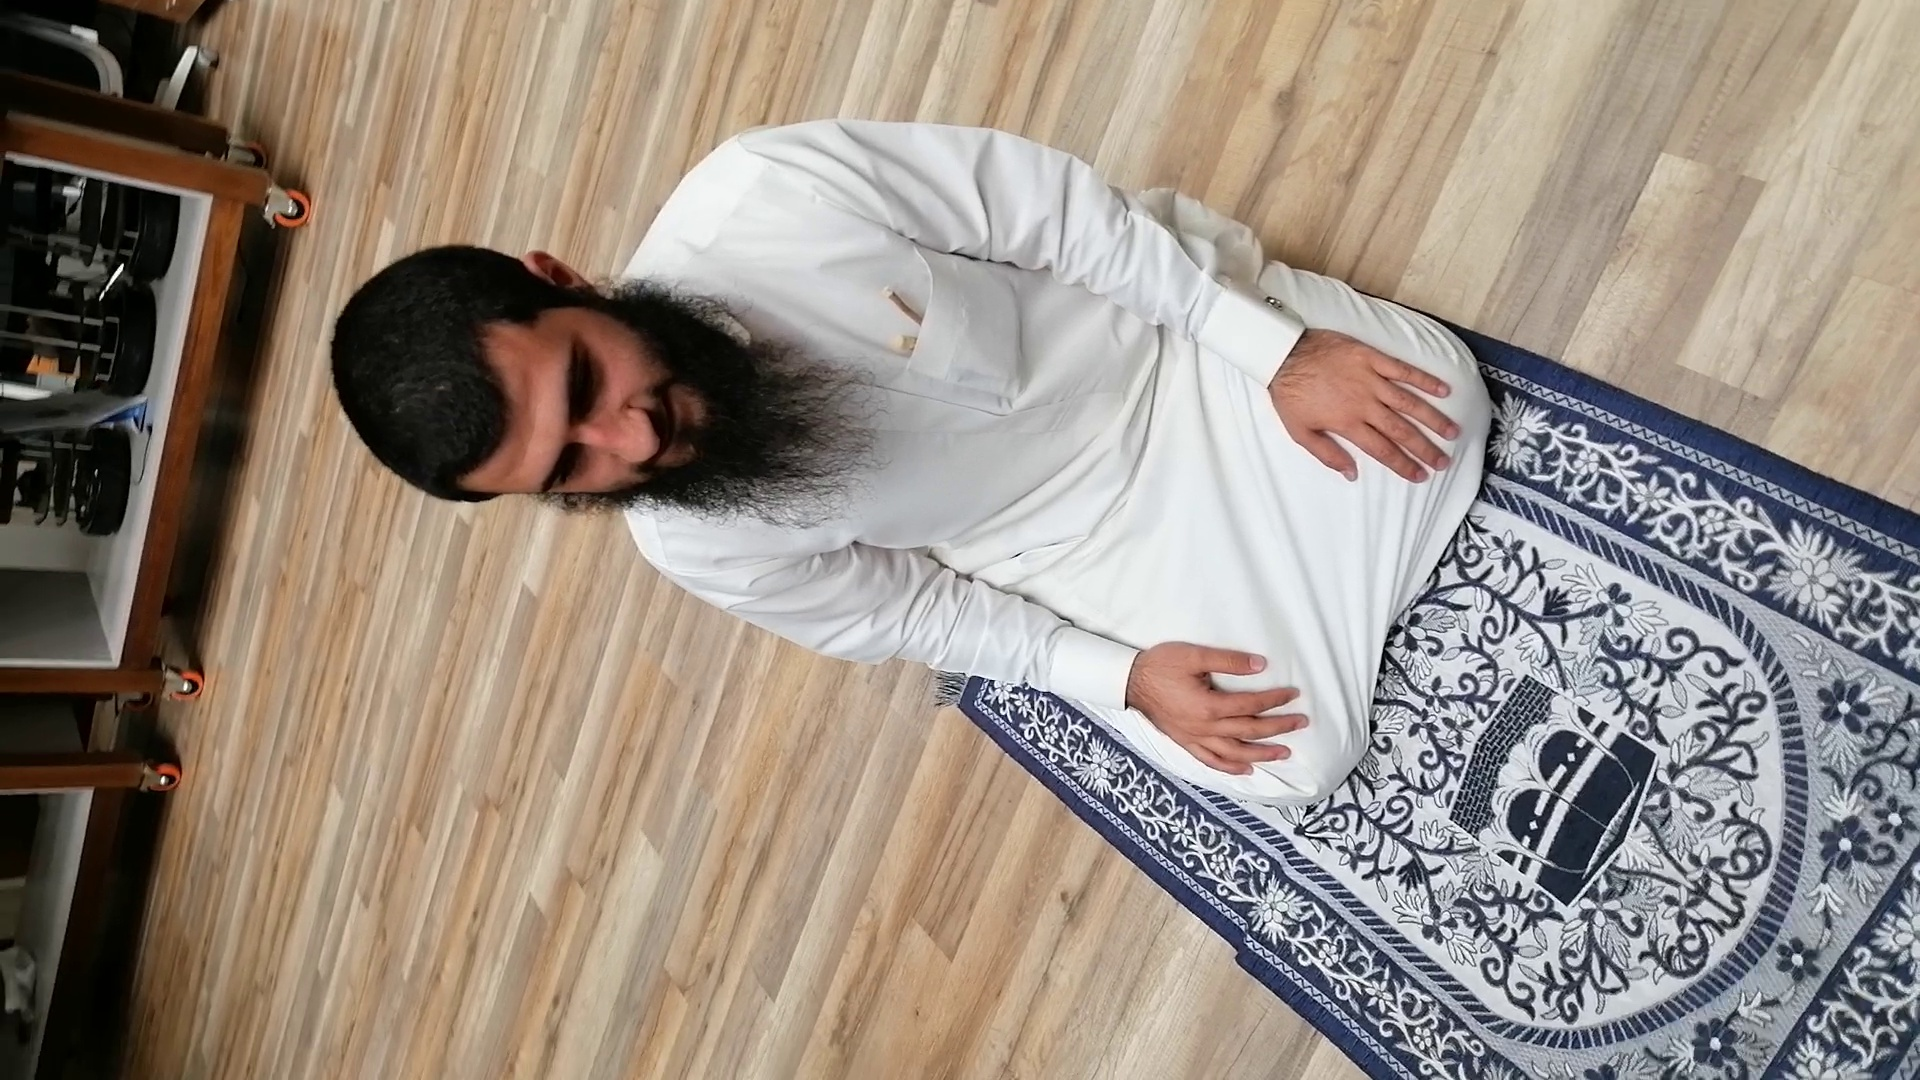sitting: (301, 102, 1552, 853)
